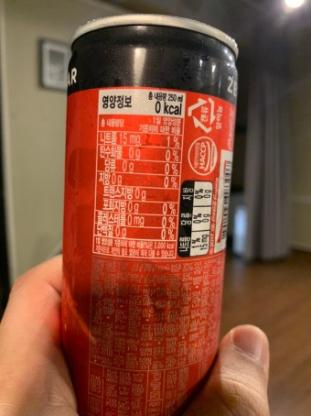Can: (63, 14, 241, 416)
